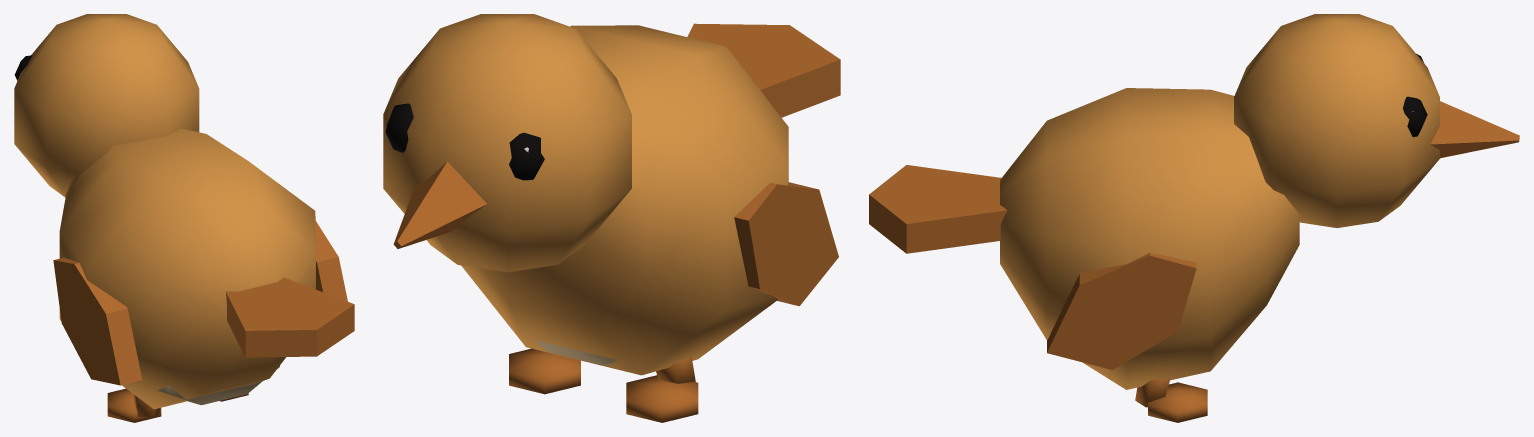
File: Slime_Swift.glb
3 views of the same model, side by side, from view 1: azimuth 30°, elevation 25°; view 2: azimuth 150°, elevation 25°; view 3: azimuth 270°, elevation 25° (orthographic). The views are drawn at different scales.
Visible parts, largest first — view 1: Slime_Swift; view 2: Slime_Swift; view 3: Slime_Swift.
Part boxes in pixels (x1,y1,x2,y2): Slime_Swift: (14,14,354,422); Slime_Swift: (383,14,840,422); Slime_Swift: (869,14,1519,422).
Bounding box in the file's own units: 0.64 × 0.8722 × 1.39.
